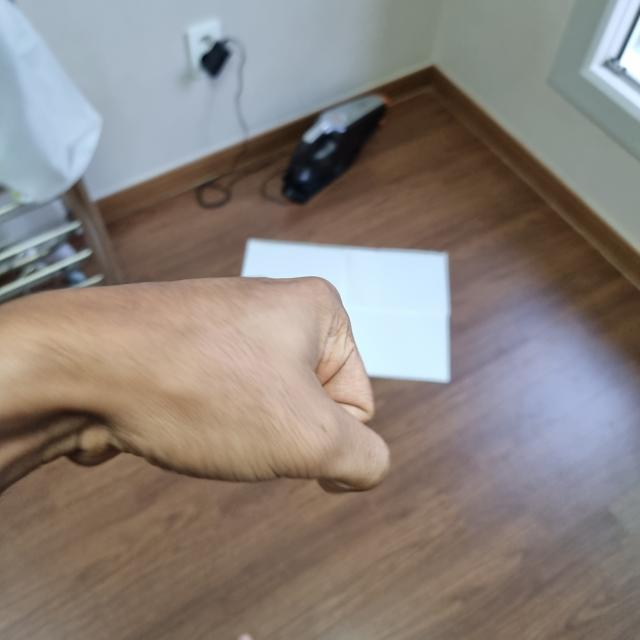Rock: (7, 277, 382, 481)
